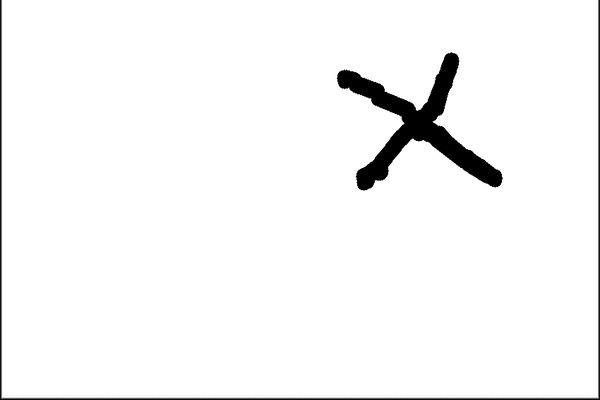X: (318, 45, 520, 192)
